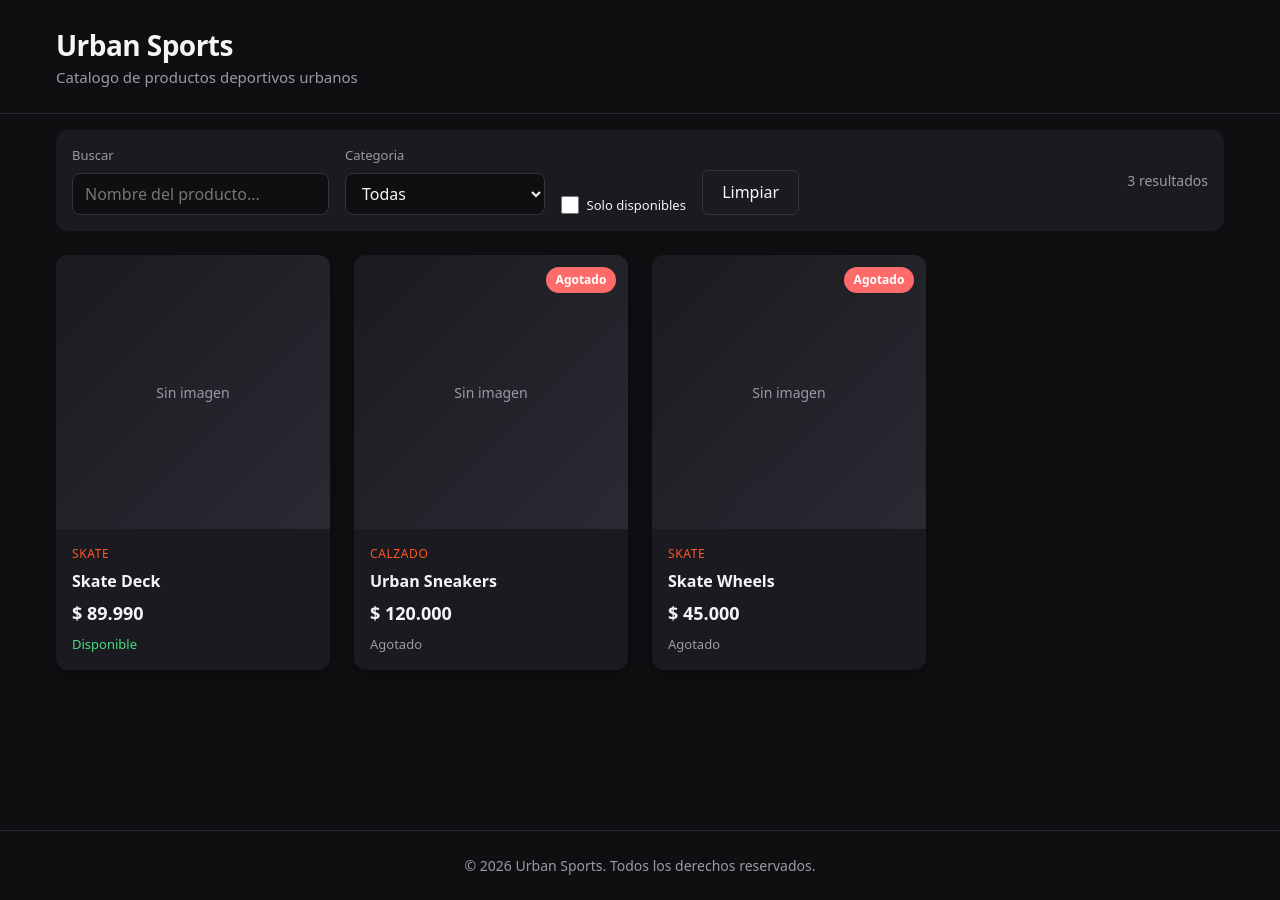
Scenario: App - filtros (integracion) › filtra por texto de busqueda al escribir
The width and height of the screenshot is (1280, 900).
Expected: the heading "Skate Deck" is shown, [72,570,160,592]
Type "sneakers" into the search field labelled "Buscar".
click(200, 194); type("sneakers")  # box [72,173,329,215]
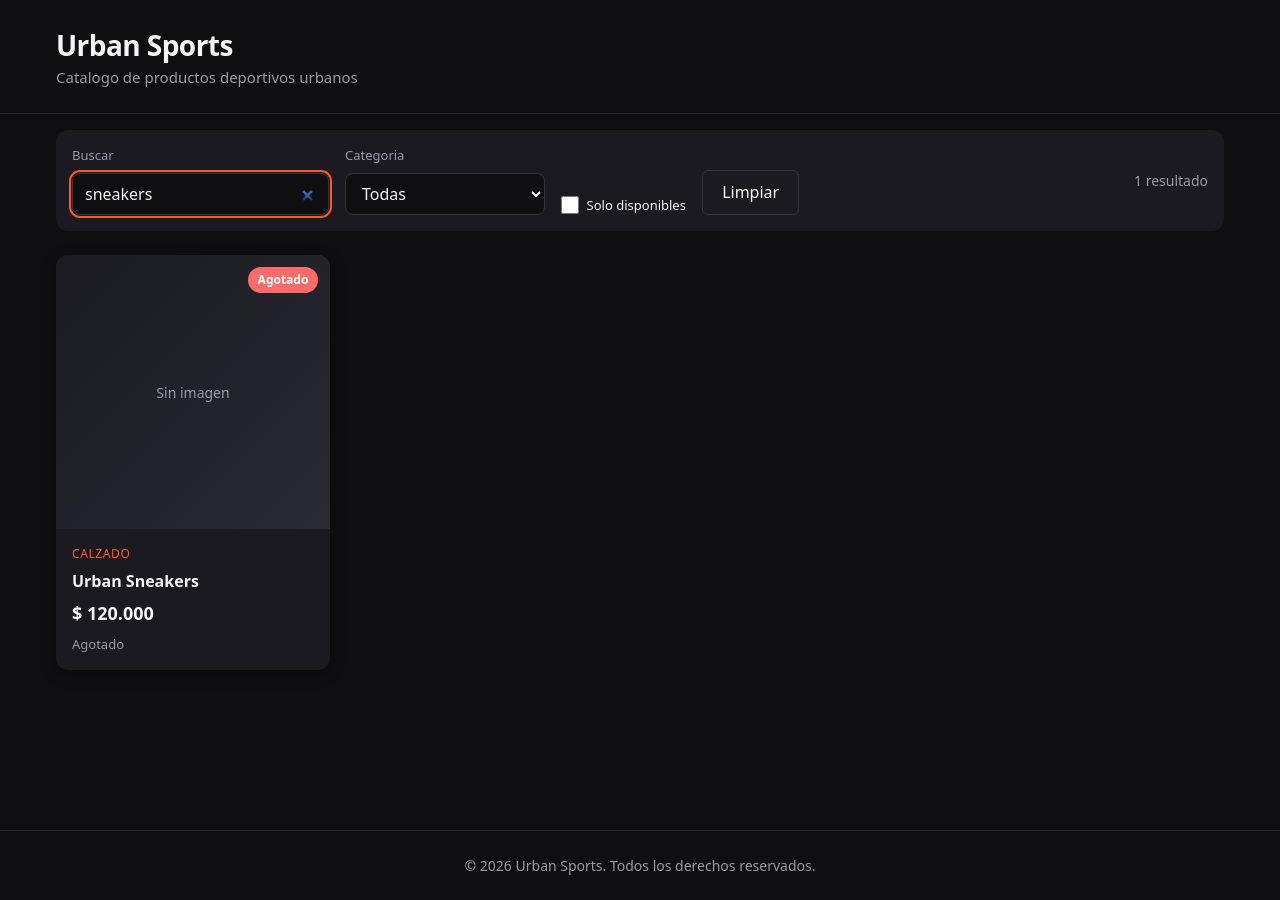
Expected: the heading "Urban Sneakers" is shown, [72,570,199,592]
Expected: the heading "Skate Deck" is gone
